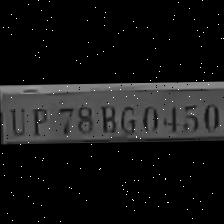0: (137, 100, 159, 130), (198, 100, 220, 130)
4: (160, 100, 180, 132)
5: (178, 100, 198, 131)
7: (50, 102, 74, 134)
8: (72, 100, 94, 132)
B: (95, 100, 117, 132)
G: (116, 101, 138, 132)
P: (24, 102, 50, 134)
U: (2, 102, 26, 134)
